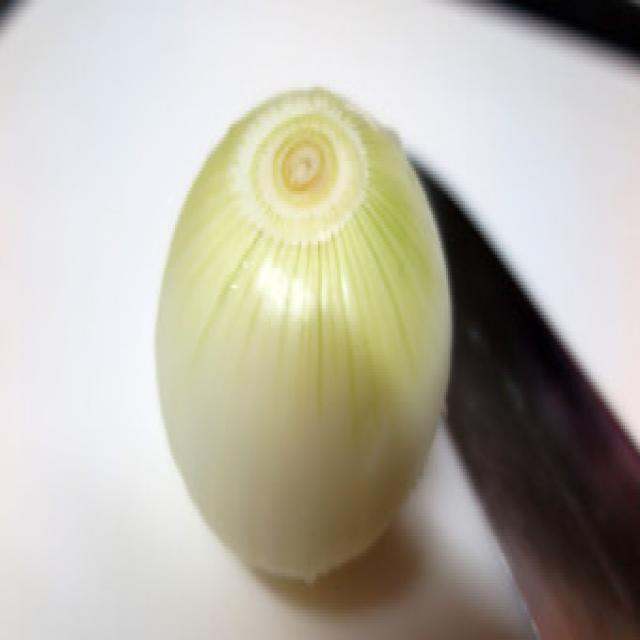onion: (140, 57, 484, 623)
